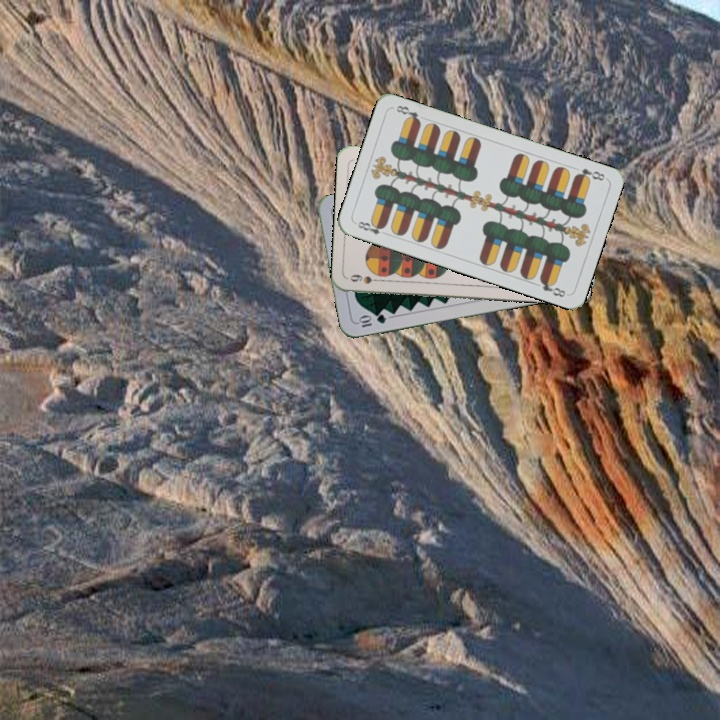E8: (353, 217, 391, 238), (571, 164, 608, 184)
G10: (354, 310, 389, 330)
S9: (346, 270, 386, 286)
